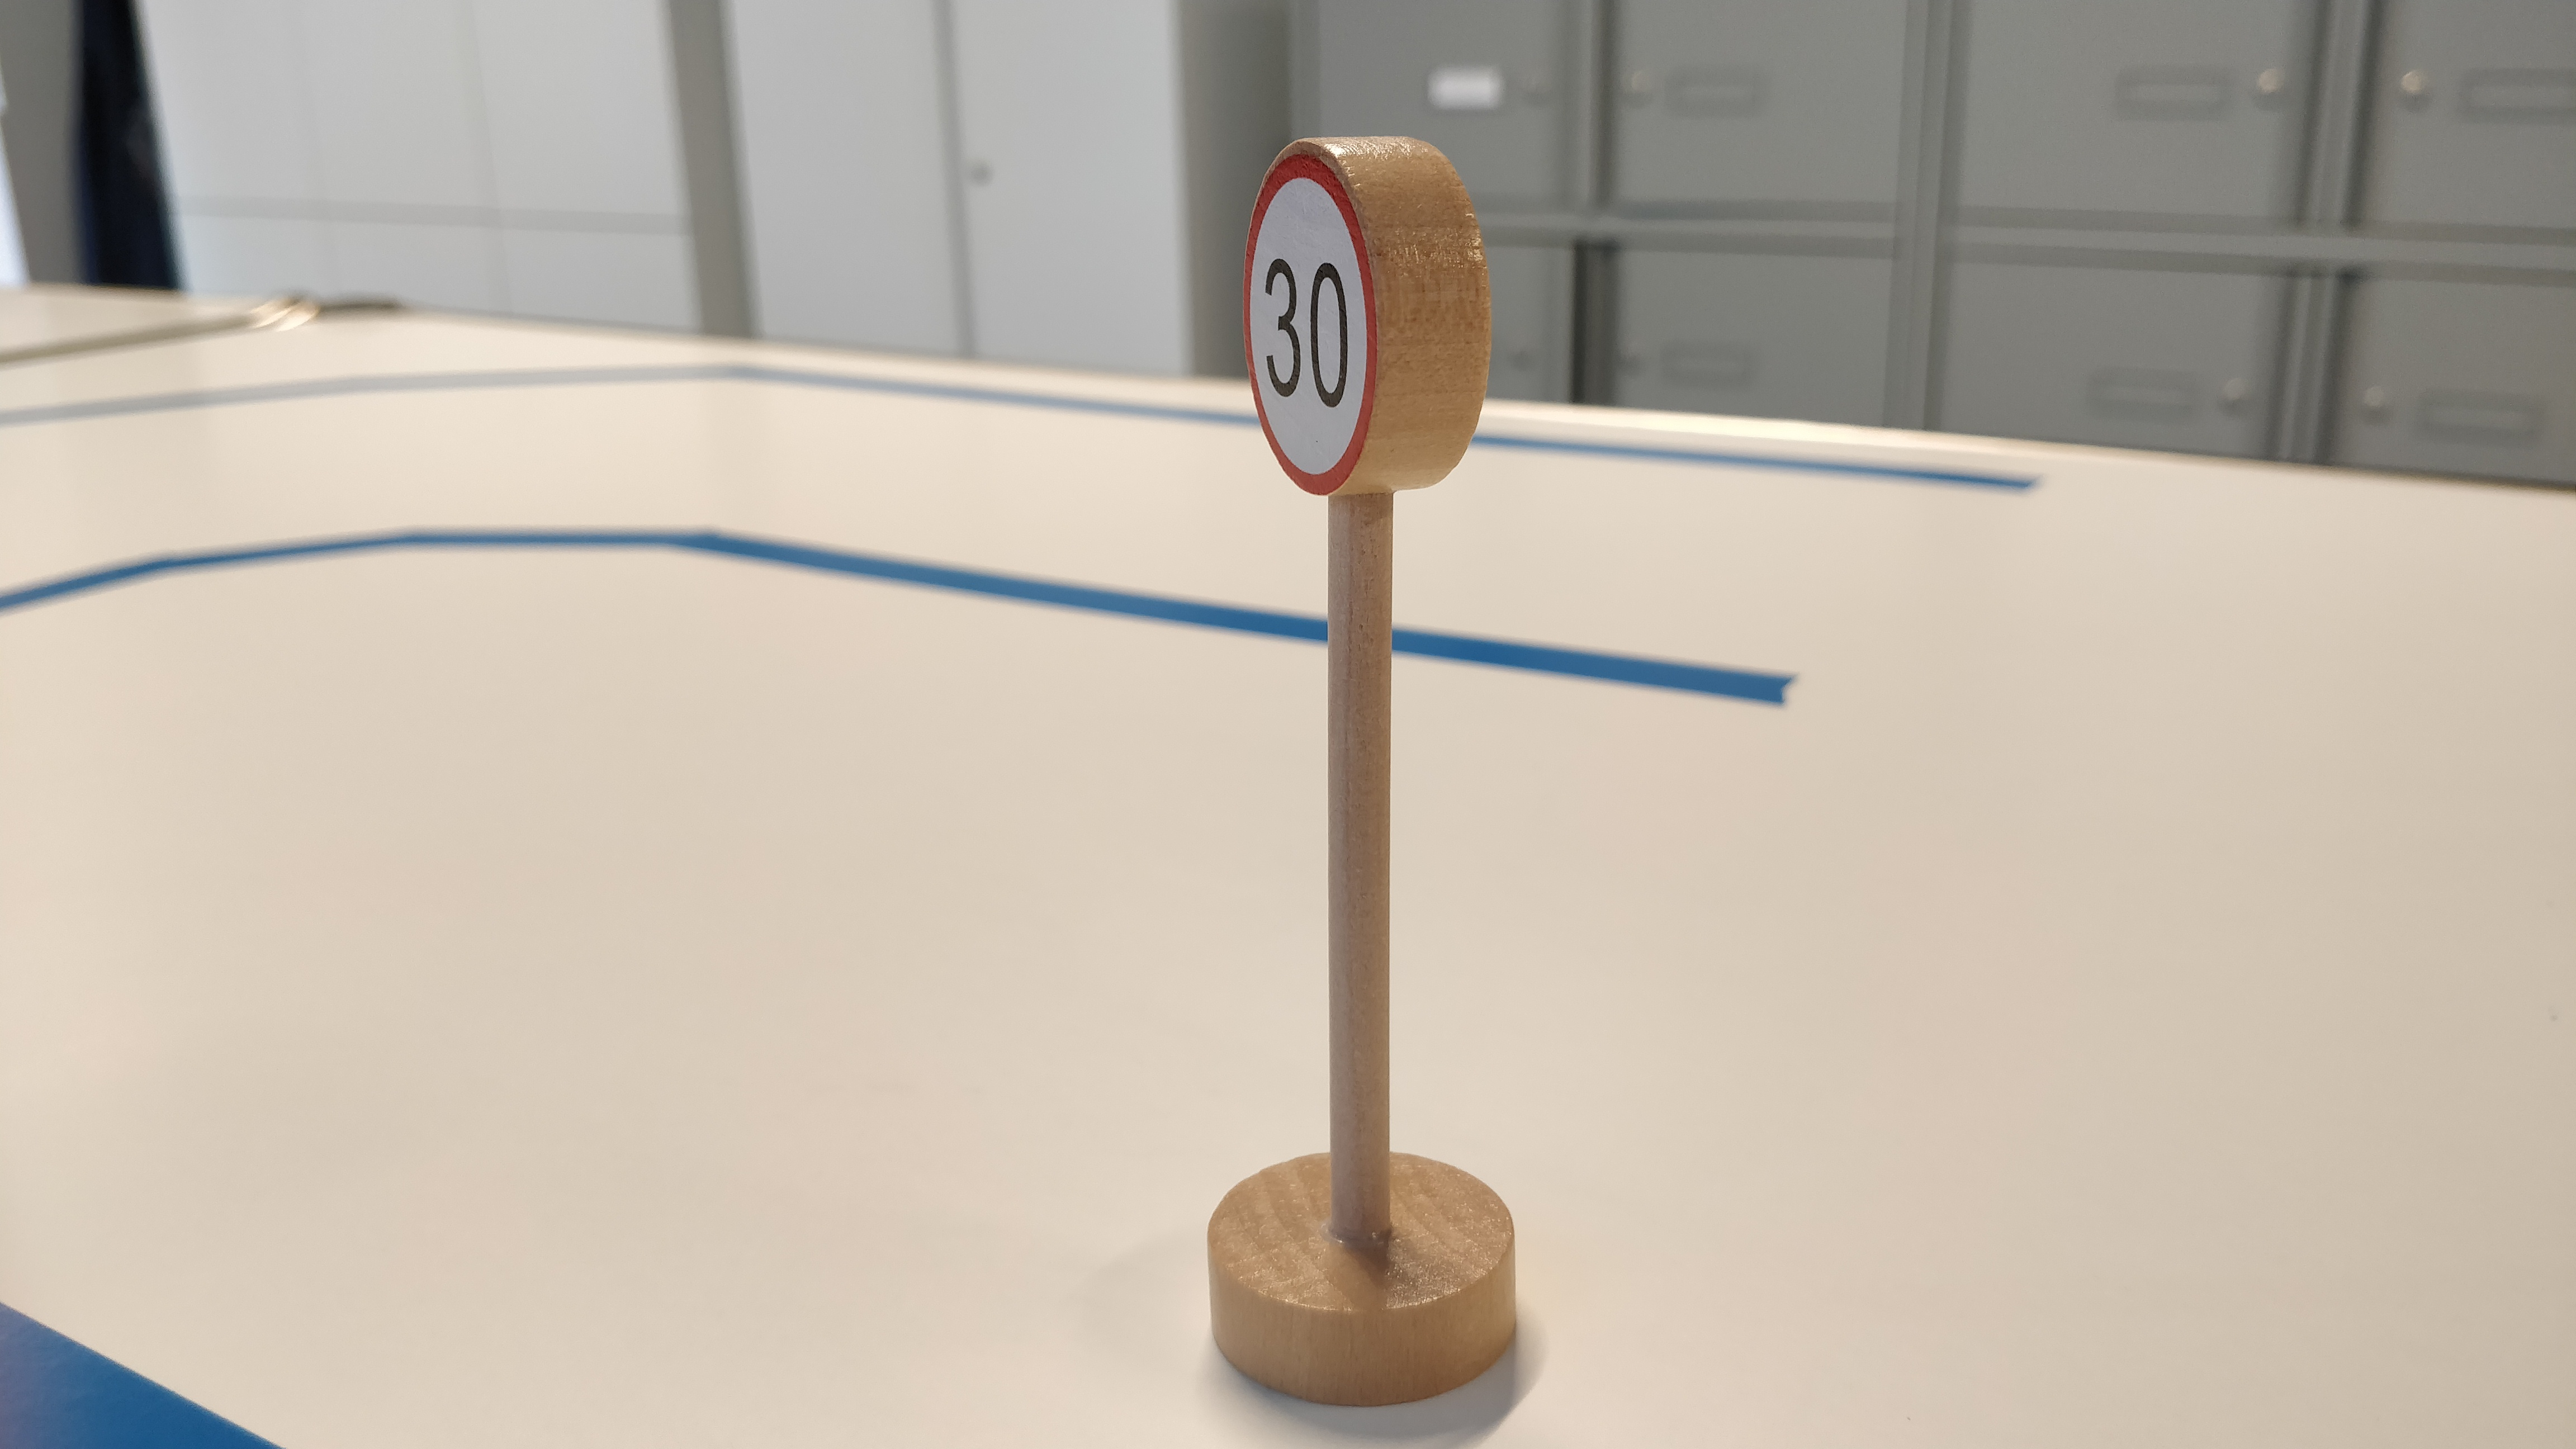Speed Limit 30: (1238, 129, 1499, 497)
